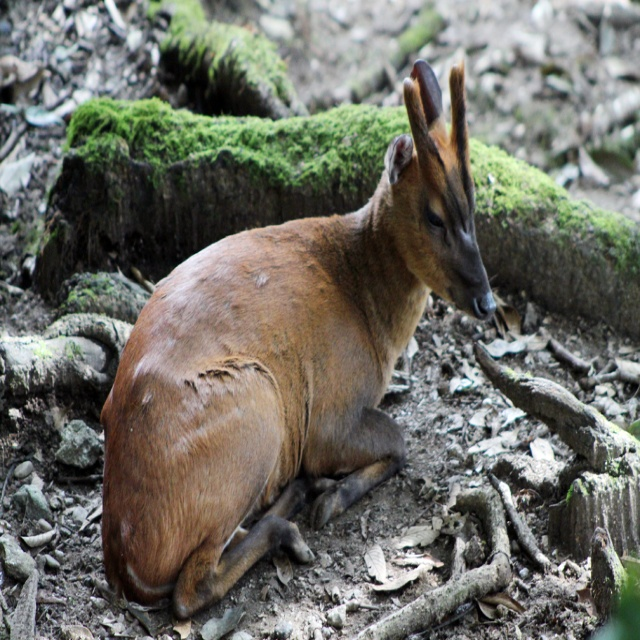Deer: (95, 55, 500, 607)
